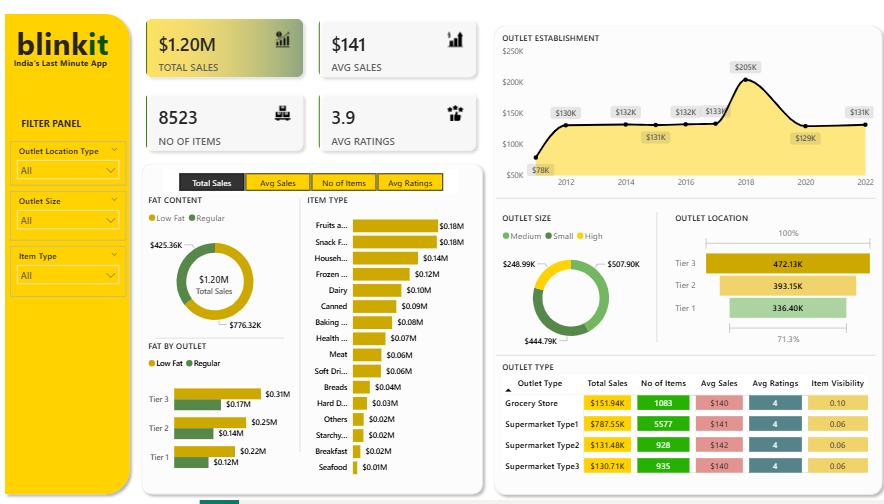

What the dashboard file says about the page in this screenshot:
{"tool":"powerbi","page":{"name":"Blinkit sales performance Dashboard","canvas":[1400,800],"ordinal":0},"visuals":[{"type":"shape","box":[0,25,215,775],"z":0},{"type":"textbox","box":[0,42.5,200,74],"z":1000},{"type":"textbox","box":[17.3,97.6,159.1,83.5],"z":2000},{"type":"cardVisual","fields":{"Data":["BlinkIT Grocery Data.Total Sales","BlinkIT Grocery Data.Avg Sales","BlinkIT Grocery Data.No of Items","BlinkIT Grocery Data.Avg Ratings"]},"box":[214.2,25.2,554.3,242.5],"z":3000},{"type":"shape","box":[215,261.7,555,538.3],"z":4000},{"type":"donutChart","title":"FAT CONTENT","fields":{"Y":["BlinkIT Grocery Data.Total Sales"],"Category":["BlinkIT Grocery Data.Item Fat Content"]},"box":[229.9,318.1,220.5,229.9],"z":5000},{"type":"slicer","fields":{"Values":["Metrics.Metrics"]},"box":[258.3,278.7,464.6,39.4],"z":6000},{"type":"cardVisual","fields":{"Data":["BlinkIT Grocery Data.Total Sales"]},"box":[290,425,98.3,58.3],"z":7000},{"type":"clusteredBarChart","title":"FAT BY OUTLET","fields":{"Y":["BlinkIT Grocery Data.Total Sales"],"Category":["BlinkIT Grocery Data.Outlet Location Type"],"Series":["BlinkIT Grocery Data.Item Fat Content"]},"box":[230,548.3,233.3,226.7],"z":8000},{"type":"shape","box":[463.3,326.7,21.7,398.3],"z":9000},{"type":"shape","box":[783.3,305,585,41.7],"z":10000},{"type":"barChart","title":"ITEM TYPE","fields":{"Y":["BlinkIT Grocery Data.Total Sales"],"Category":["BlinkIT Grocery Data.Item Type"]},"box":[480,318.3,256.7,456.7],"z":11000},{"type":"shape","box":[770,43.3,630,756.7],"z":12000},{"type":"lineChart","title":"OUTLET ESTABLISHMENT","fields":{"Category":["BlinkIT Grocery Data.Outlet Establishment Year"],"Y":["BlinkIT Grocery Data.Total Sales"]},"box":[786.7,63.3,595,255],"z":13000},{"type":"shape","box":[1013.3,346.7,46.7,205],"z":14000},{"type":"shape","box":[247.8,532.8,201.6,25.2],"z":15000},{"type":"shape","box":[783.3,561.7,598.3,20],"z":16000},{"type":"donutChart","title":"OUTLET SIZE","fields":{"Y":["BlinkIT Grocery Data.Total Sales"],"Category":["BlinkIT Grocery Data.Outlet Size"]},"box":[786.7,346.7,226.7,225],"z":17000},{"type":"funnel","title":"OUTLET LOCATION","fields":{"Y":["Sum(BlinkIT Grocery Data.Sales)"],"Category":["BlinkIT Grocery Data.Outlet Location Type"]},"box":[1060,346.7,321.7,215],"z":18000},{"type":"shape","box":[783.3,315,598.3,20],"z":19000},{"type":"pivotTable","title":"OUTLET TYPE","fields":{"Rows":["BlinkIT Grocery Data.Outlet Type"],"Values":["BlinkIT Grocery Data.Total Sales","BlinkIT Grocery Data.No of Items","BlinkIT Grocery Data.Avg Sales","BlinkIT Grocery Data.Avg Ratings","Avg(BlinkIT Grocery Data.Item Visibility)"]},"box":[786.7,581.7,600,206.7],"z":20000},{"type":"slicer","fields":{"Values":["BlinkIT Grocery Data.Outlet Location Type"]},"box":[16.7,235,183.3,70],"z":21000},{"type":"slicer","fields":{"Values":["BlinkIT Grocery Data.Outlet Size"]},"box":[16.7,313.3,183.3,78.3],"z":22000},{"type":"slicer","fields":{"Values":["BlinkIT Grocery Data.Item Type"]},"box":[16.7,400,183.3,80],"z":23000},{"type":"textbox","box":[16.7,191.7,130,43.3],"z":24000}]}

Visuals, with their boxes in screenshot pixels (x1, y1, x2, y2), scaled from the page's 1400x800 canvas onto the 884x504 screenshot:
shape: box(0, 16, 136, 503)
textbox: box(0, 27, 126, 73)
textbox: box(11, 61, 111, 114)
cardVisual - BlinkIT Grocery Data.Total Sales x BlinkIT Grocery Data.Avg Sales: box(135, 16, 485, 169)
shape: box(136, 165, 486, 503)
"FAT CONTENT" donutChart: box(145, 200, 284, 345)
slicer - Metrics.Metrics: box(163, 176, 456, 200)
cardVisual - BlinkIT Grocery Data.Total Sales: box(183, 268, 245, 304)
"FAT BY OUTLET" clusteredBarChart: box(145, 345, 293, 488)
shape: box(293, 206, 306, 457)
shape: box(495, 192, 864, 218)
"ITEM TYPE" barChart: box(303, 201, 465, 488)
shape: box(486, 27, 883, 503)
"OUTLET ESTABLISHMENT" lineChart: box(497, 40, 872, 201)
shape: box(640, 218, 669, 348)
shape: box(156, 336, 284, 352)
shape: box(495, 354, 872, 366)
"OUTLET SIZE" donutChart: box(497, 218, 640, 360)
"OUTLET LOCATION" funnel: box(669, 218, 872, 354)
shape: box(495, 198, 872, 211)
"OUTLET TYPE" pivotTable: box(497, 366, 876, 497)
slicer - BlinkIT Grocery Data.Outlet Location Type: box(11, 148, 126, 192)
slicer - BlinkIT Grocery Data.Outlet Size: box(11, 197, 126, 247)
slicer - BlinkIT Grocery Data.Item Type: box(11, 252, 126, 302)
textbox: box(11, 121, 93, 148)
